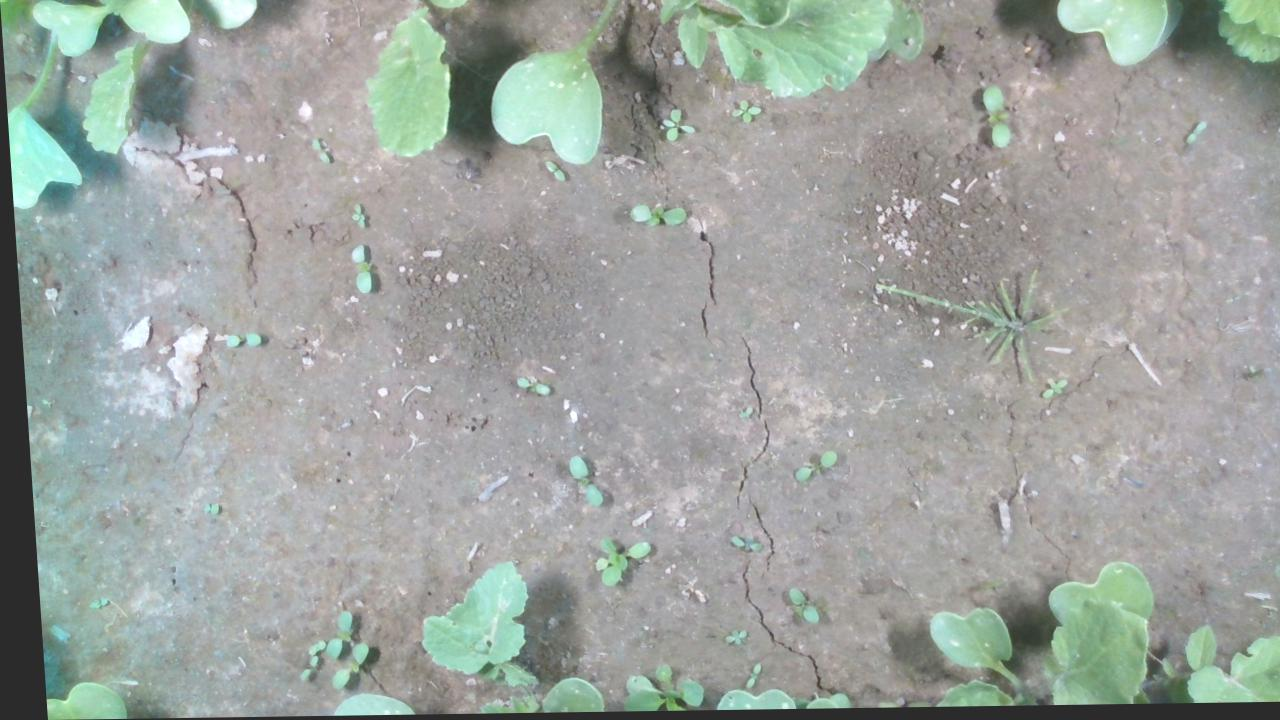weed: (978, 86, 1009, 152), (559, 455, 595, 509), (624, 204, 684, 229), (784, 452, 830, 483), (657, 110, 694, 144), (344, 243, 368, 294), (777, 588, 810, 625), (726, 101, 761, 125), (220, 331, 257, 349), (721, 536, 756, 555), (509, 377, 544, 396), (1181, 123, 1205, 147), (307, 138, 327, 166), (539, 160, 562, 184), (1035, 381, 1062, 401), (733, 664, 753, 691), (713, 630, 738, 646), (347, 203, 362, 229)
